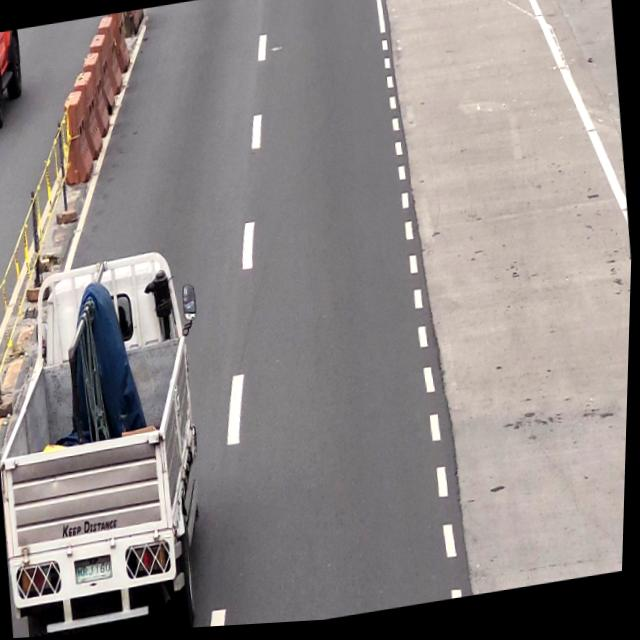License-Plate: (77, 558, 117, 585)
Truck: (0, 244, 219, 640)
